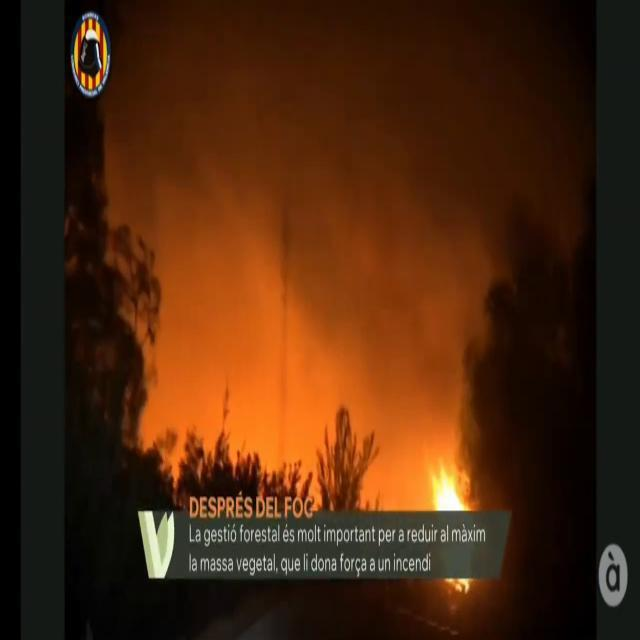Fire: (420, 446, 478, 519)
Smoke: (110, 1, 584, 460)
